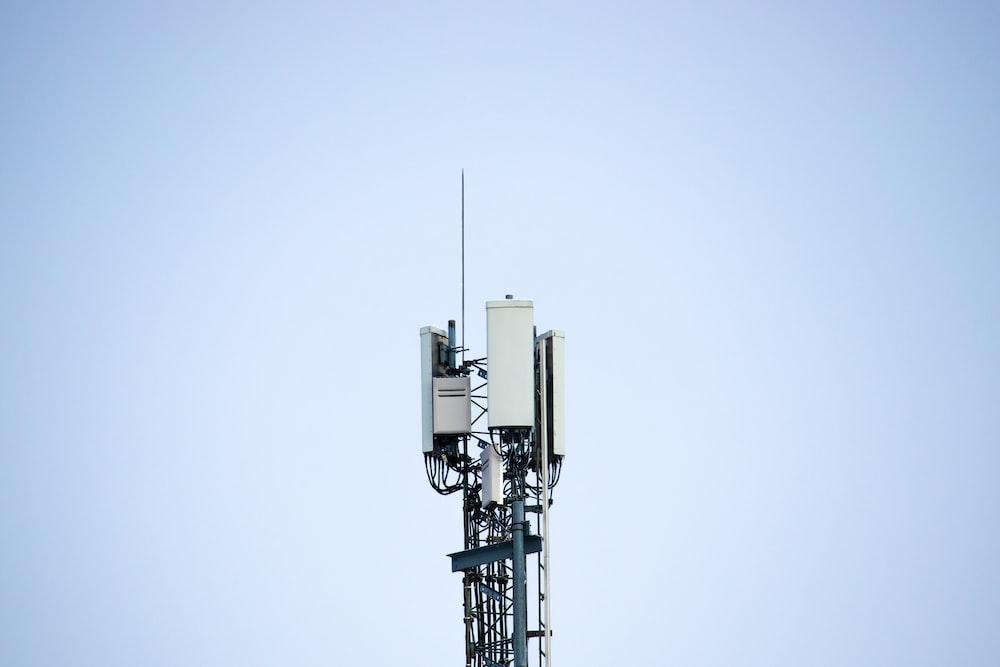antenna: (480, 292, 539, 436), (418, 317, 457, 462), (541, 328, 574, 460), (479, 440, 508, 514)
